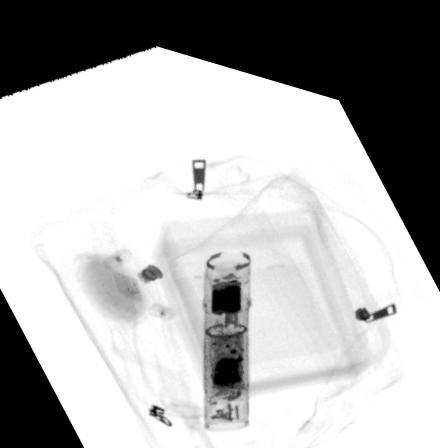Baton: (204, 234, 252, 421)
